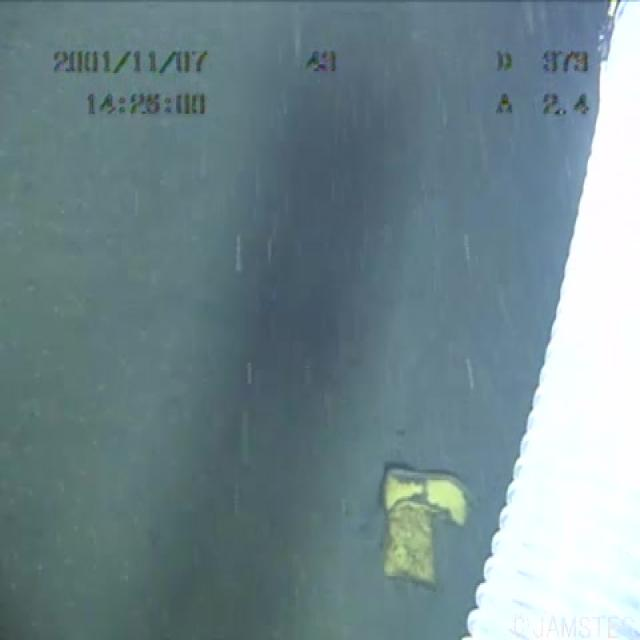plastic: (327, 439, 472, 605)
